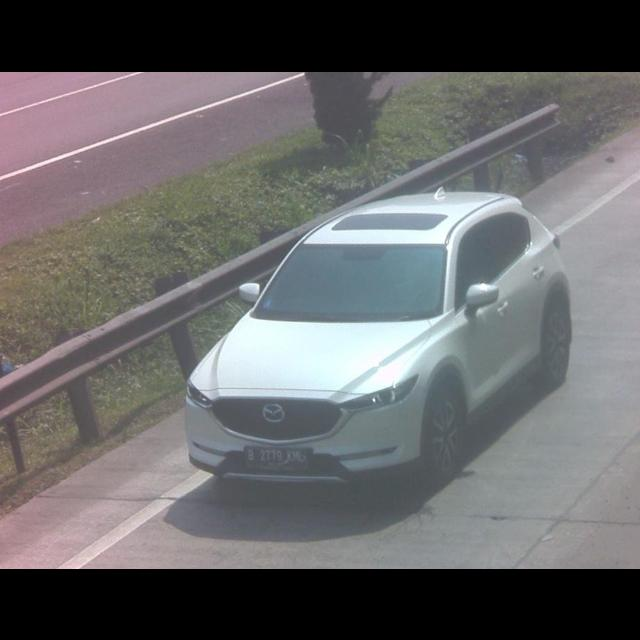plate: (242, 444, 312, 468)
